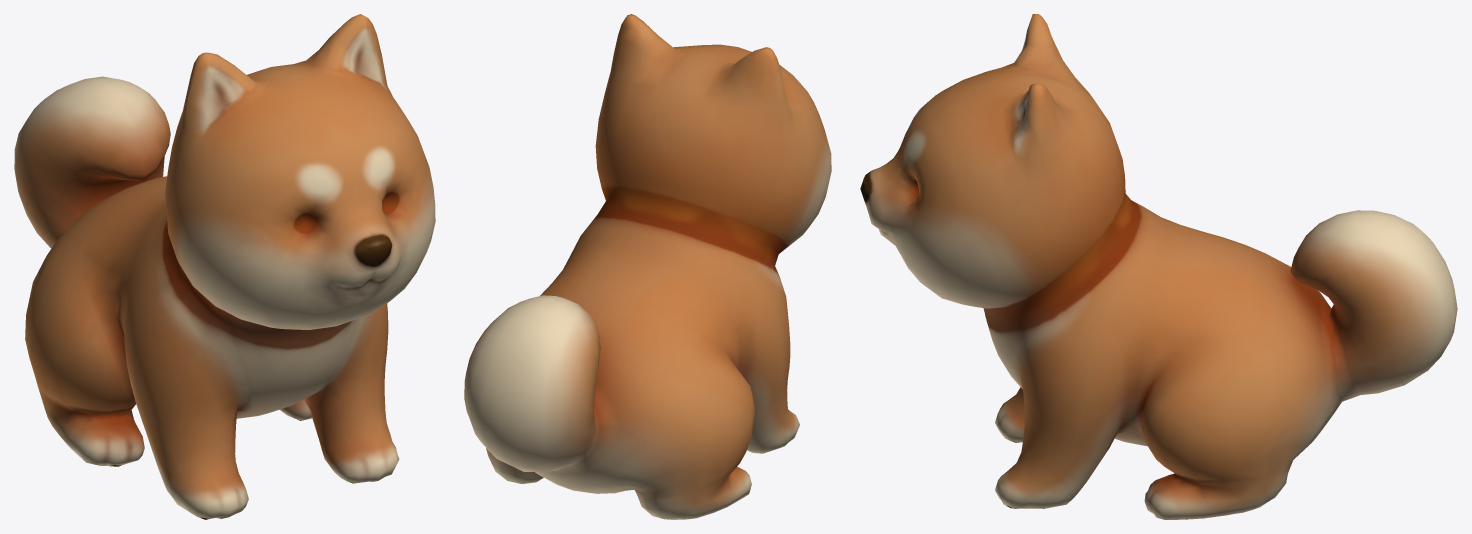
The model's file is Shiba.obj.
The picture shows the model from 3 angles, left to right: view 1: azimuth 30°, elevation 25°; view 2: azimuth 150°, elevation 25°; view 3: azimuth 270°, elevation 25°; orthographic projection. The views are drawn at different scales.
Visible parts, largest first — view 1: Box002; view 2: Box002; view 3: Box002.
Part boxes in pixels (left/top/right/bottom): Box002: left=14, top=14, right=435, bottom=519; Box002: left=464, top=14, right=831, bottom=519; Box002: left=860, top=14, right=1457, bottom=519.
Bounding box in the file's own units: 2.05 × 3.07 × 3.94.
1 material, 1 textured.
